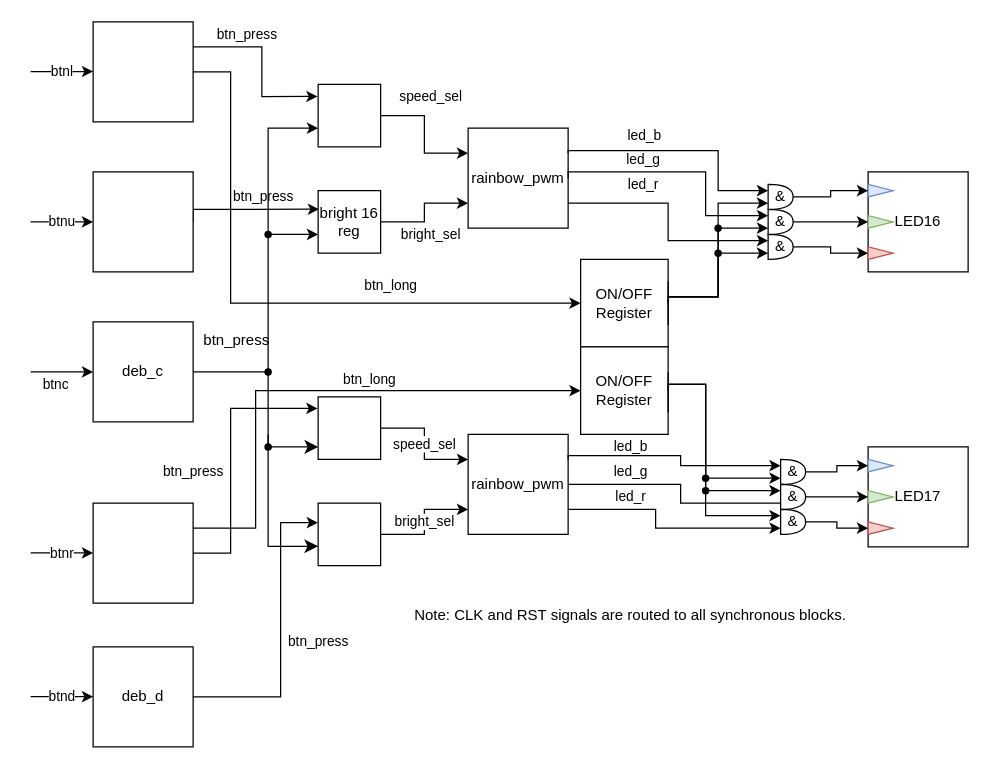
Some shapes in this 990 by 769 pixel diagram are drawn without their labels. Here are the shapes that lost their labels. From the top down, the centre of each, then its label:
At pixel 142 71: "deb_l".
At pixel 349 115: "speed 16 reg".
At pixel 142 221: "deb_u".
At pixel 349 427: "speed 17 reg".
At pixel 142 552: "deb_r".
At pixel 349 534: "bright 17 reg".
